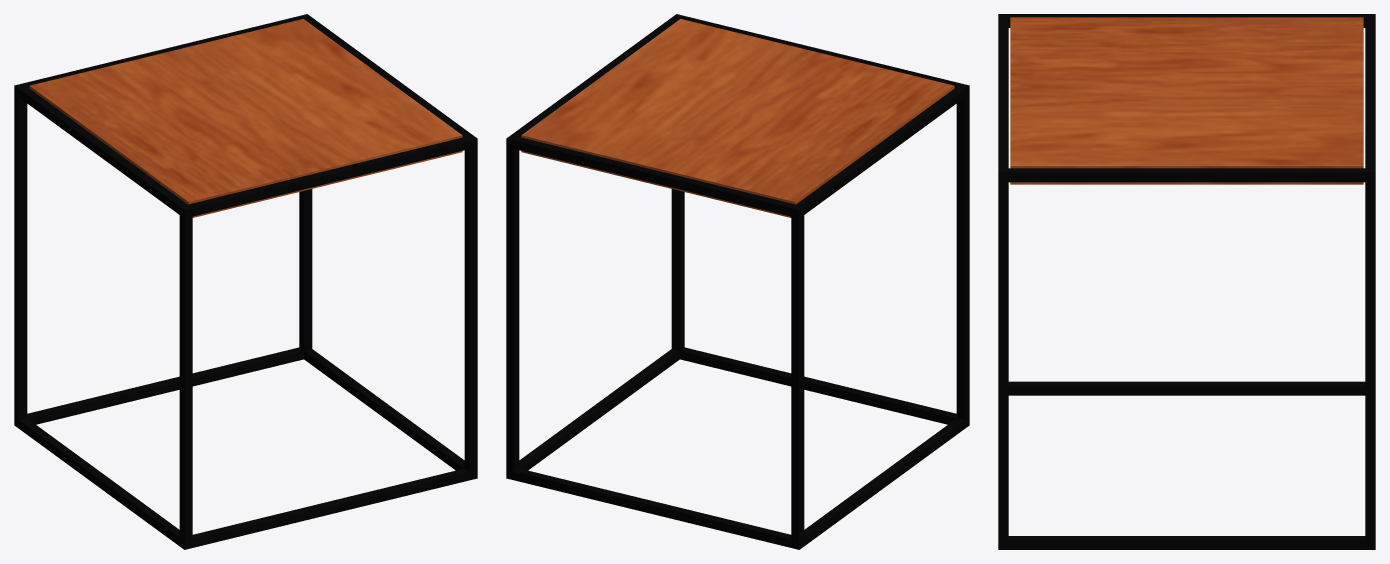
File: Shelf_04_a.optimized.glb
The picture shows the model from 3 angles, left to right: view 1: azimuth 30°, elevation 25°; view 2: azimuth 150°, elevation 25°; view 3: azimuth 270°, elevation 25°; orthographic projection. The views are drawn at different scales.
Visible parts, largest first — view 1: Shelf_04_a; view 2: Shelf_04_a; view 3: Shelf_04_a.
Part boxes in pixels (bbox=[...]): Shelf_04_a: bbox=[14, 14, 477, 549]; Shelf_04_a: bbox=[506, 14, 969, 549]; Shelf_04_a: bbox=[998, 14, 1375, 549].
Size of the model in its own units: 0.8951 by 0.9966 by 0.9.
1 material, 1 textured.
